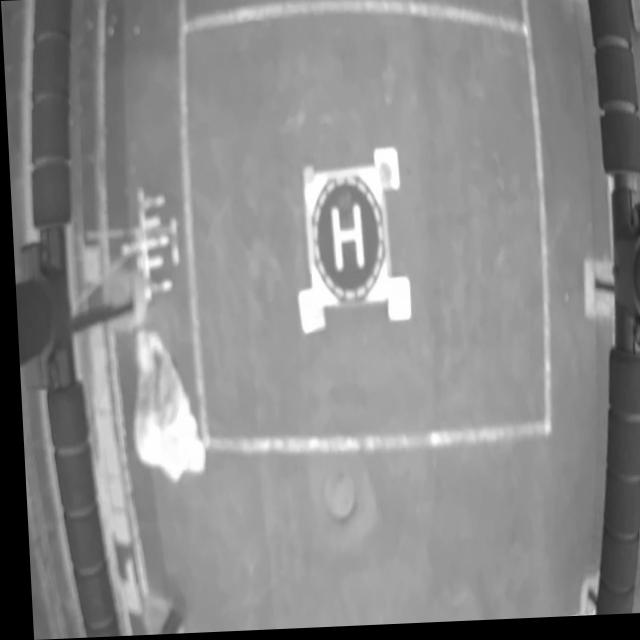Helipad: (325, 205, 362, 275)
